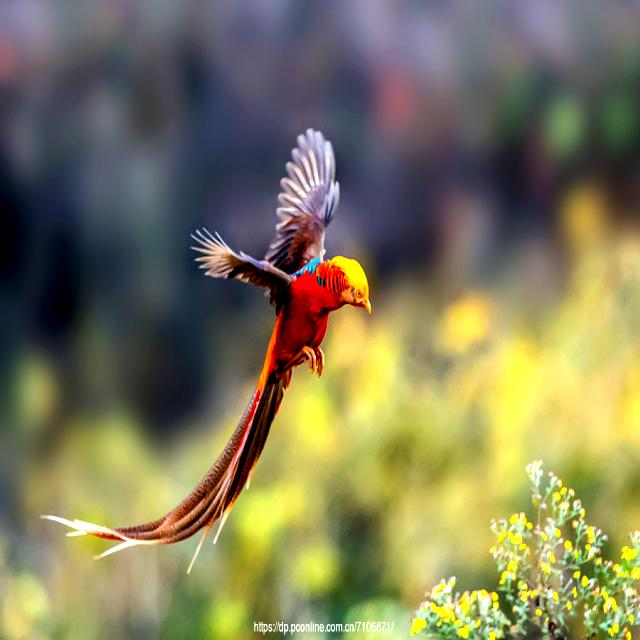Chrysolophus pictus feather: (79, 380, 282, 548)
